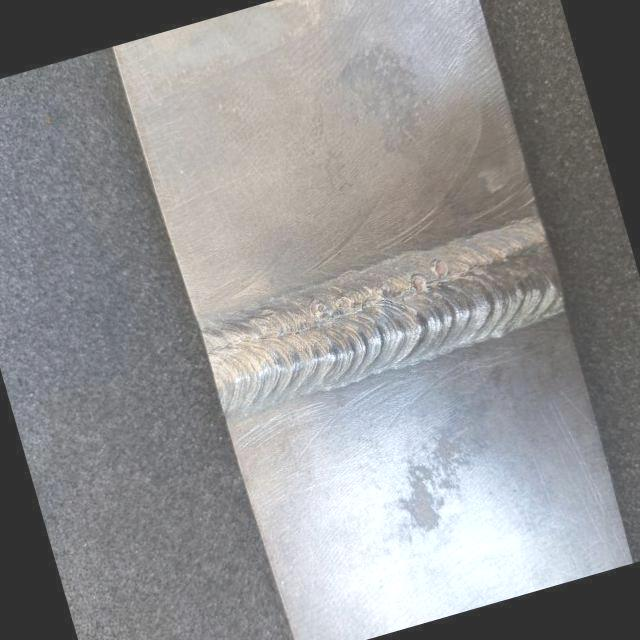defect: (336, 291, 354, 317), (312, 296, 330, 321), (434, 258, 451, 280), (411, 272, 428, 293), (380, 284, 389, 295)
